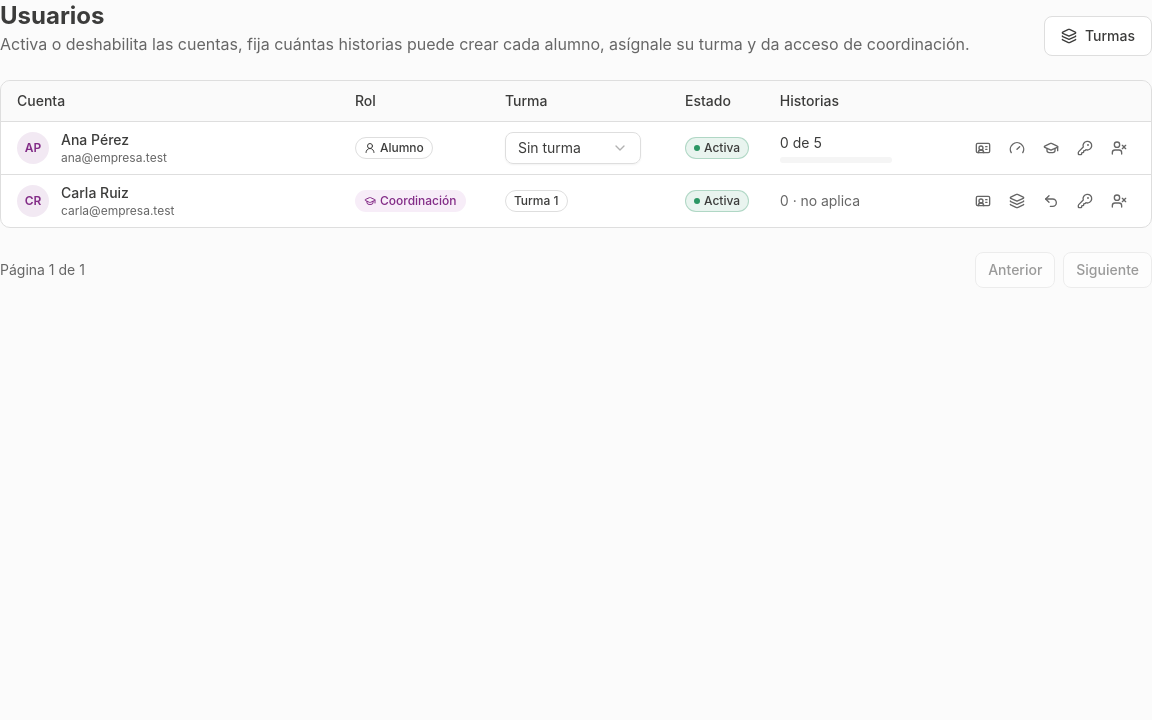
users — turmas y coordinación en la pantalla Usuarios › Convertir en coordinación: la fila muestra 'Coordinación' y sus turmas, sin cupo ni turma de alumno
Expected: the row "AP Ana Pérez ana@empresa.test Alumno Sin turma Activa 0 de 5" is shown, [1,121,1151,174]
What coordinates should you click on to do the following:
click the button named "Convertir en coordinación"
I would click on:
 (1051, 148)
Its box is [1035,132,1067,164].
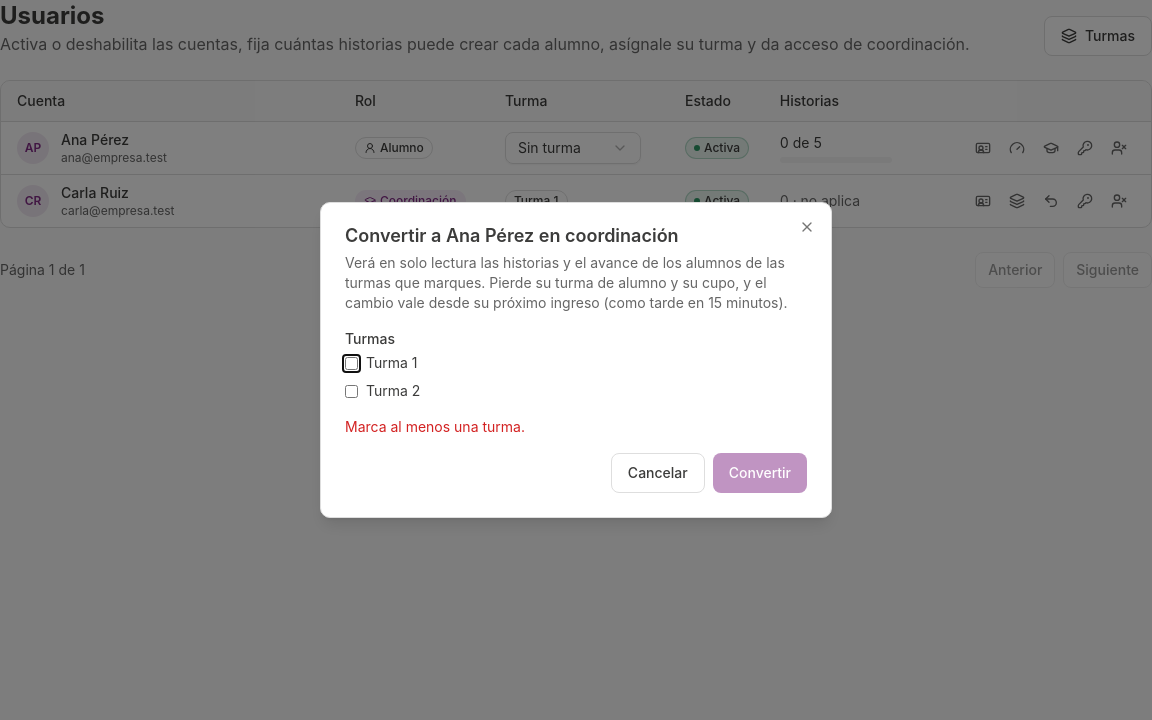
Expected: the button "Convertir" is disabled, [713,453,807,493]
What coordinates should you click on to do the following:
click the checkbox labelled "Turma 1"
I would click on:
 (352, 363)
Its box is [345,356,358,370].
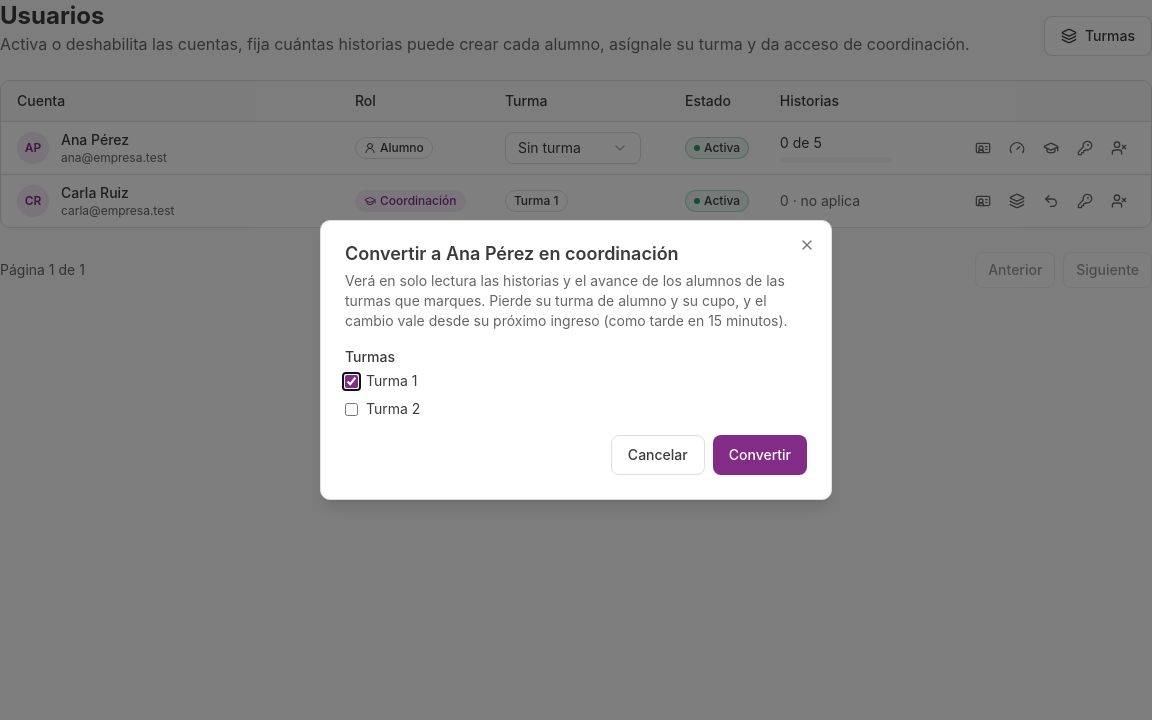
What coordinates should you click on to do the following:
click the button "Convertir"
I would click on:
 (760, 455)
Its box is [713,435,807,475].
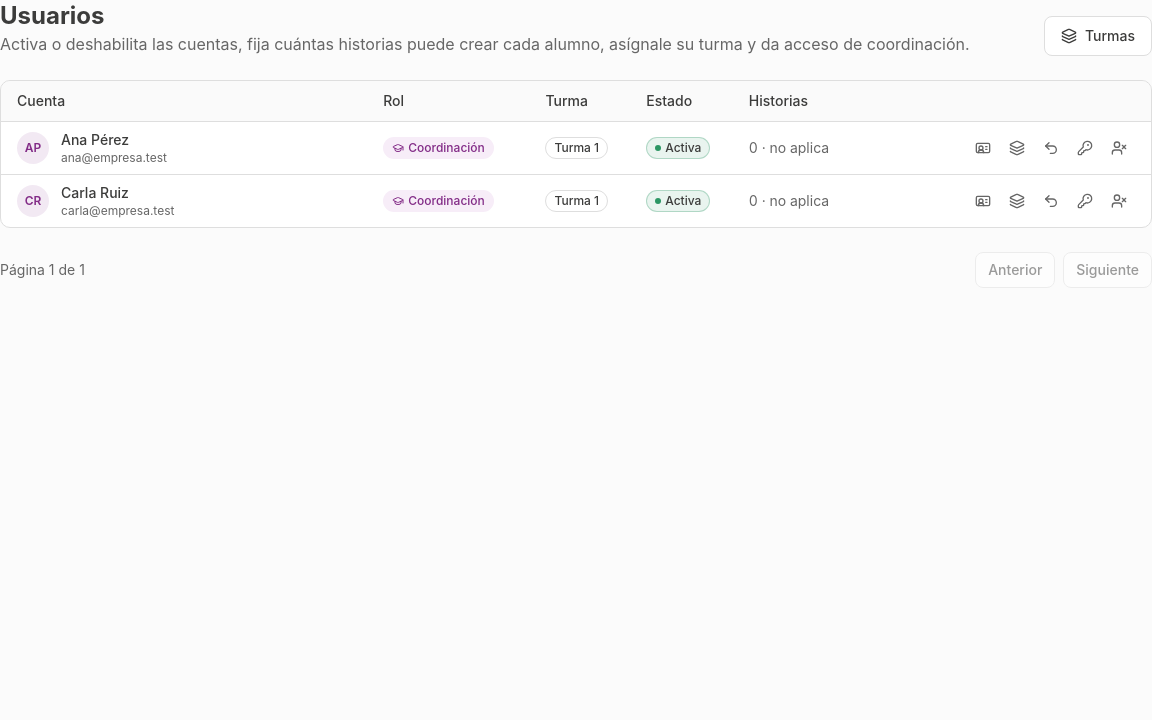
Expected: the text "Turma 1" in the row of "Ana Pérez" is shown, [554,140,599,154]
Expected: the text "Coordinación" in the row of "Ana Pérez" is shown, [408,140,485,154]
Expected: the text "cupo" is gone
